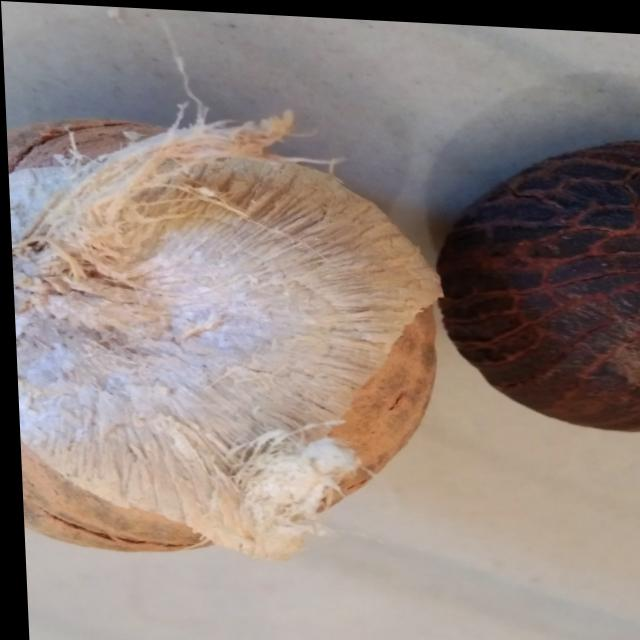karigot: (434, 108, 640, 440)
phatora: (3, 83, 437, 558)
